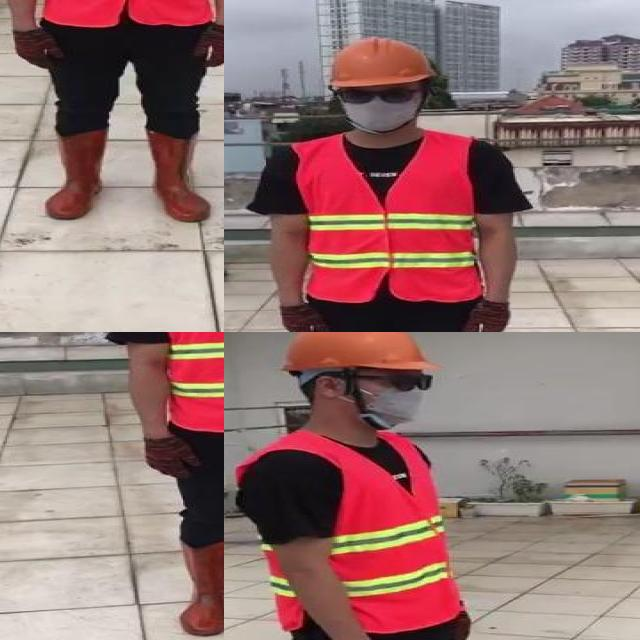boots: (143, 130, 210, 224), (45, 128, 104, 221), (172, 535, 224, 637)
face_mask: (335, 78, 433, 136), (352, 368, 438, 428)
glasses: (329, 84, 427, 108), (367, 366, 444, 396)
hand_glove: (142, 438, 203, 478), (15, 27, 61, 71), (192, 23, 224, 68), (463, 302, 511, 332), (278, 304, 329, 332)
head_helmet: (104, 332, 224, 640), (323, 34, 435, 89), (277, 332, 430, 371)
person: (224, 332, 513, 640), (251, 37, 525, 332), (0, 0, 224, 228)
vest: (232, 429, 462, 632), (298, 132, 483, 302), (152, 332, 224, 429)
